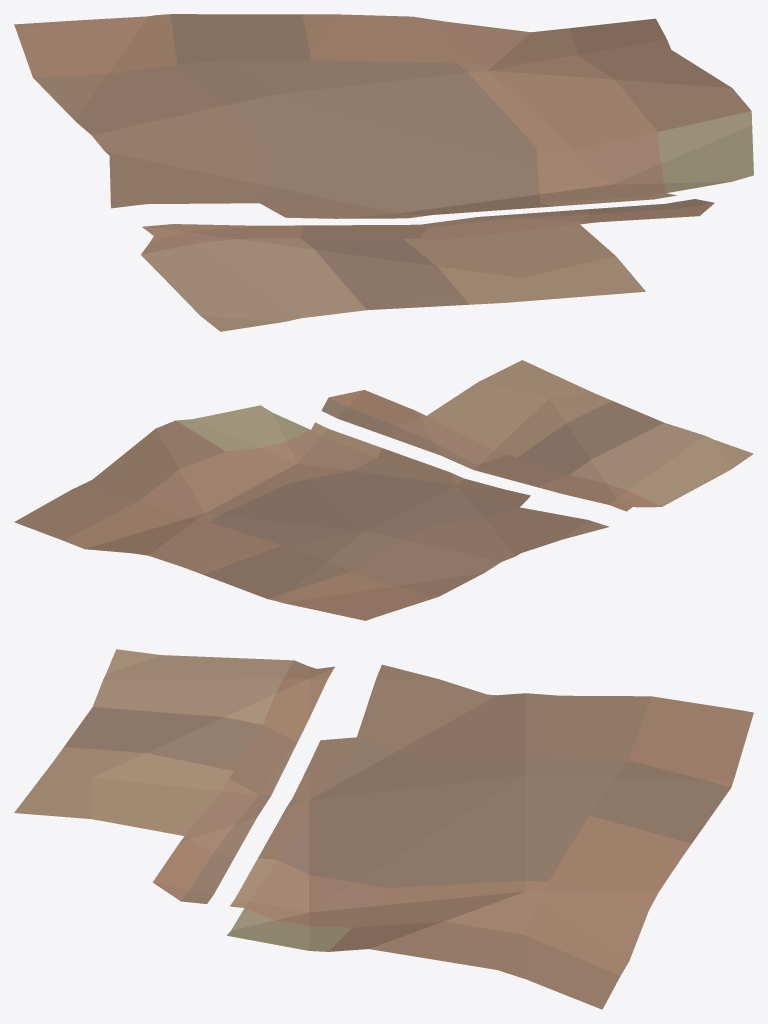
Rendered from farm_10_19_soil.glb.
3 renders of one model, top to bottom at view 1: azimuth 30°, elevation 25°; view 2: azimuth 150°, elevation 25°; view 3: azimuth 270°, elevation 25°, orthographic. The views are drawn at different scales.
Parts seen in each view (by area): view 1: geometry_0; view 2: geometry_0; view 3: geometry_0.
Boxes of the visible parts, x1=… form: geometry_0: x1=14, y1=14, x2=753, y2=331; geometry_0: x1=14, y1=360, x2=753, y2=620; geometry_0: x1=14, y1=649, x2=753, y2=1009.
Bounding box in the file's own units: 267 × 23.98 × 273.
